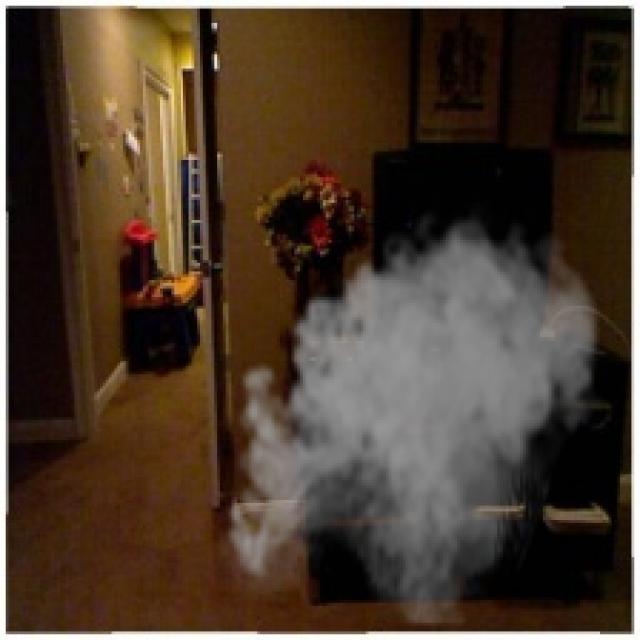smoke: (214, 203, 609, 628)
